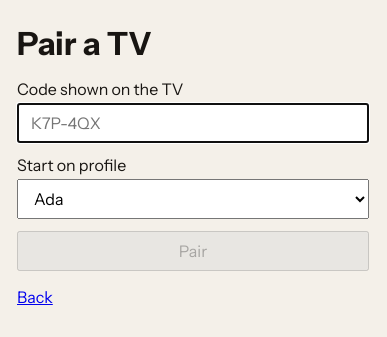
Test: Pair › explains an expired code
Type "K7P4QX" into the field labelled "Code shown on the TV".
click(193, 122); type("K7P4QX")  # box [17,102,369,142]
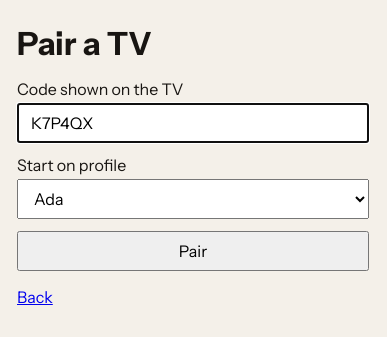
Click the button "Pair".
click(193, 250)  # box [17,230,369,270]
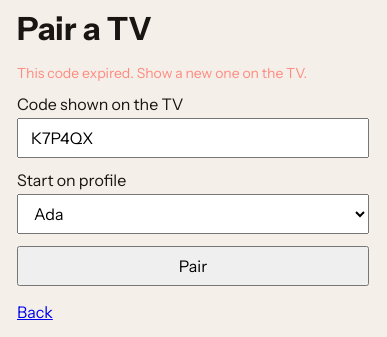
Expected: the message reads "This code expired. Show a new one on the TV.", [17,64,307,82]
